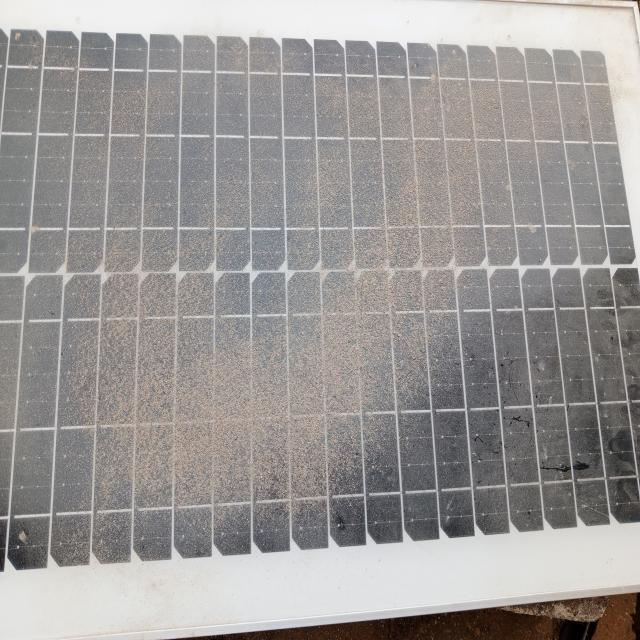Surface Contaminant: (0, 16, 628, 534)
